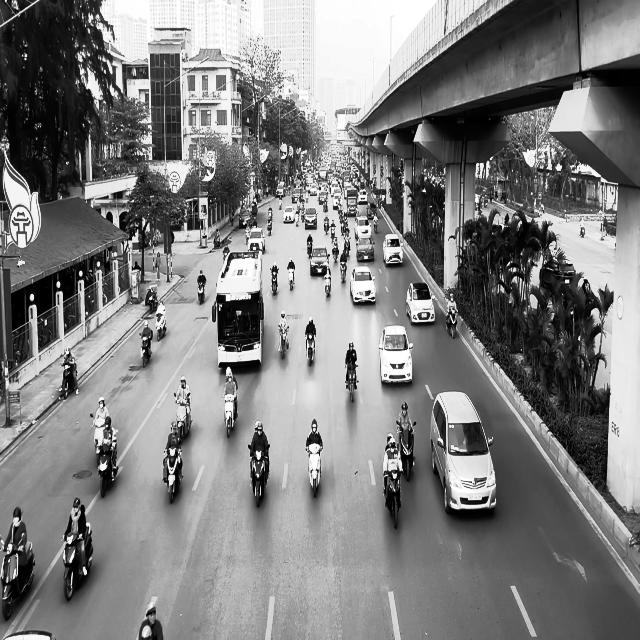bus: (211, 248, 264, 367)
car: (429, 390, 496, 514), (378, 325, 413, 385), (405, 281, 435, 325), (350, 266, 376, 304), (382, 234, 403, 266), (309, 246, 330, 275), (356, 236, 375, 262)
motorbike: (0, 536, 35, 619), (61, 523, 93, 601), (248, 443, 270, 508), (163, 444, 183, 504), (396, 420, 416, 480), (383, 469, 402, 528), (174, 392, 192, 442), (306, 443, 322, 498), (58, 362, 78, 401), (224, 394, 238, 438), (345, 362, 358, 402), (140, 331, 152, 367), (445, 309, 458, 338), (305, 333, 316, 365), (278, 326, 289, 358), (155, 309, 166, 340), (146, 285, 158, 312), (324, 268, 332, 297), (270, 266, 278, 294), (197, 277, 205, 304), (339, 258, 347, 283), (287, 267, 295, 290), (267, 217, 272, 235)
